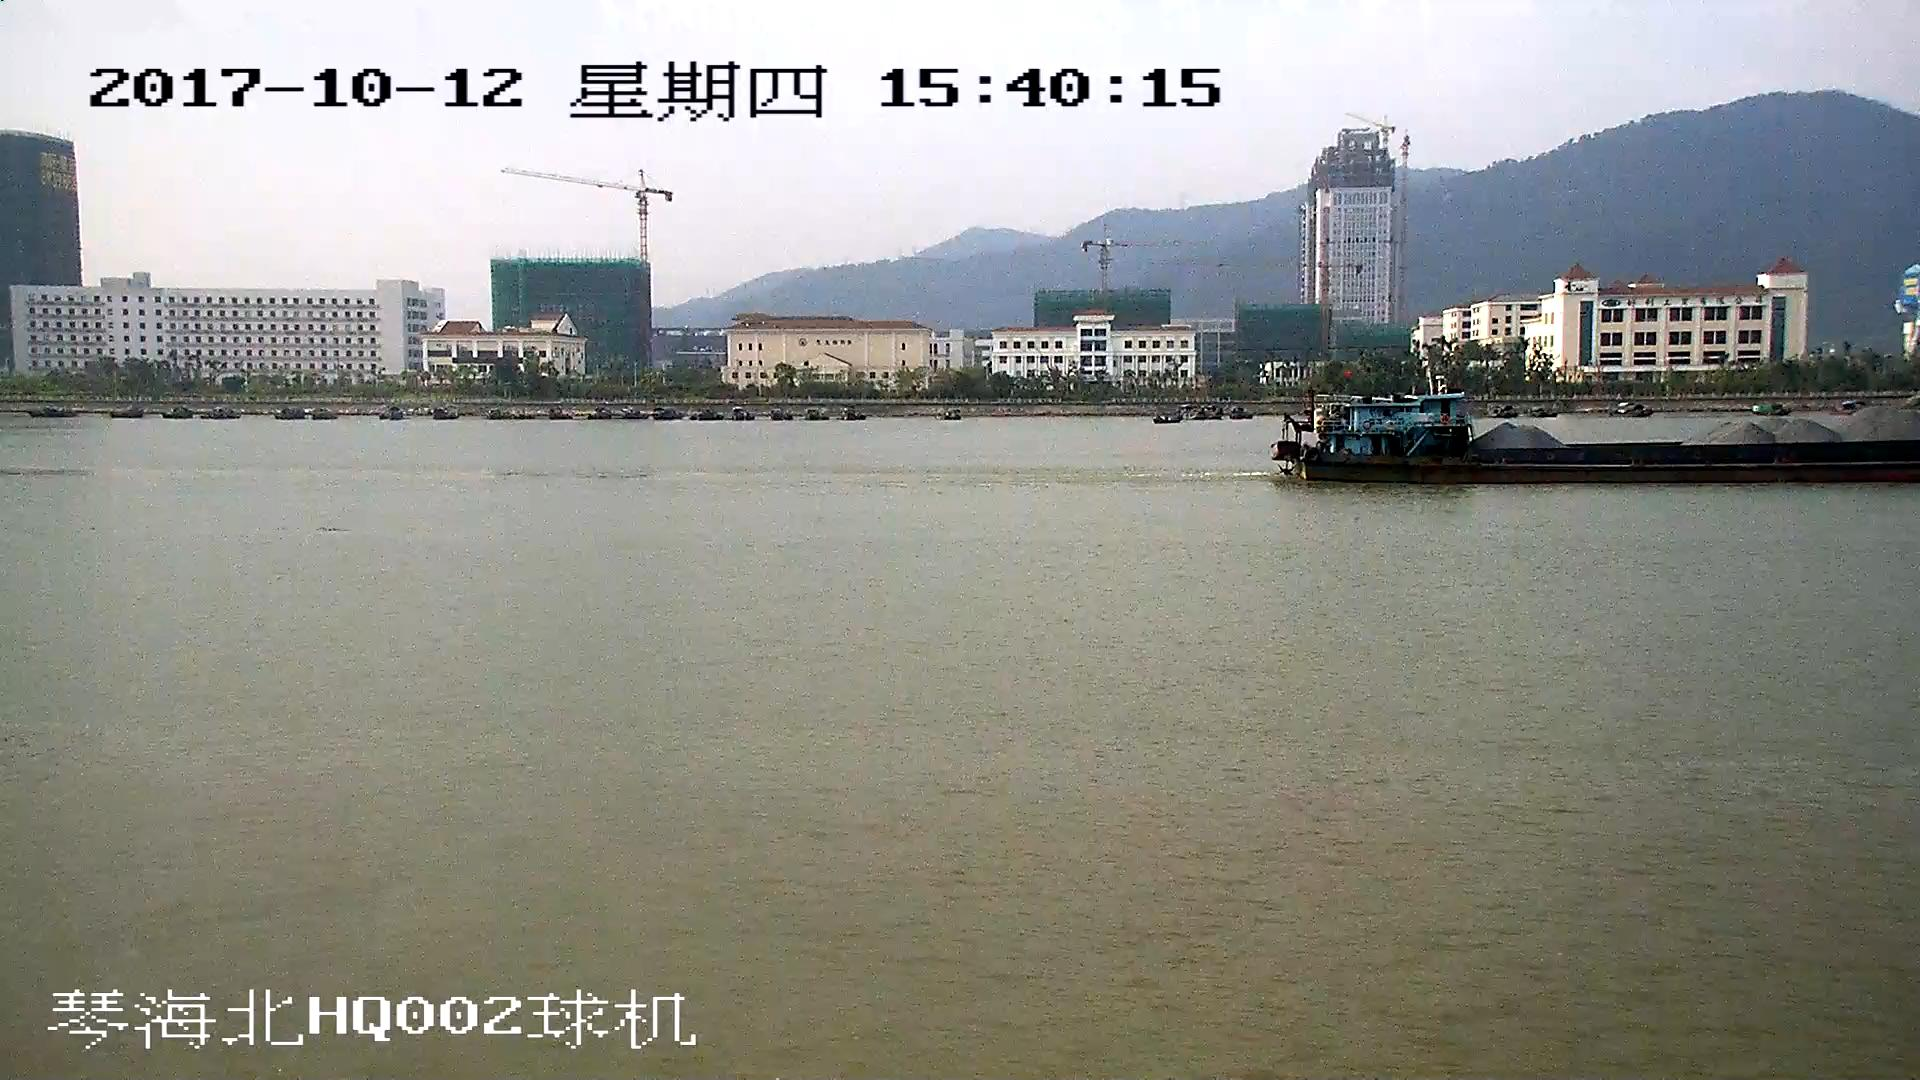ore carrier: (1269, 392, 1920, 486)
